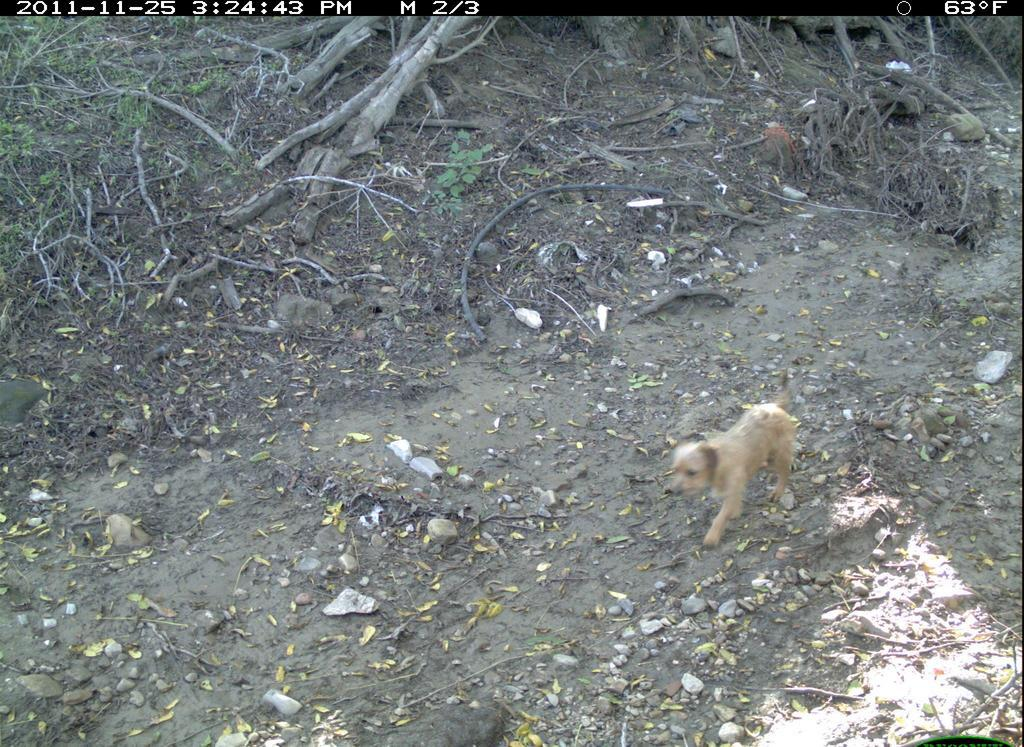dog: (661, 367, 801, 554)
